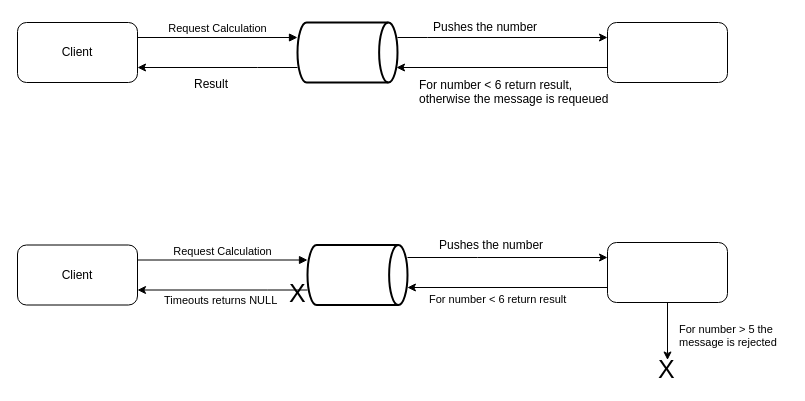
Some shapes in this 805 by 401 pixel diagram are drawn without their labels. Here are the shapes that lost their labels. From the top down, the centre of each, then its label:
the point at 667,52: Server Rabbit Listener
the point at 667,272: Server Message Handler
